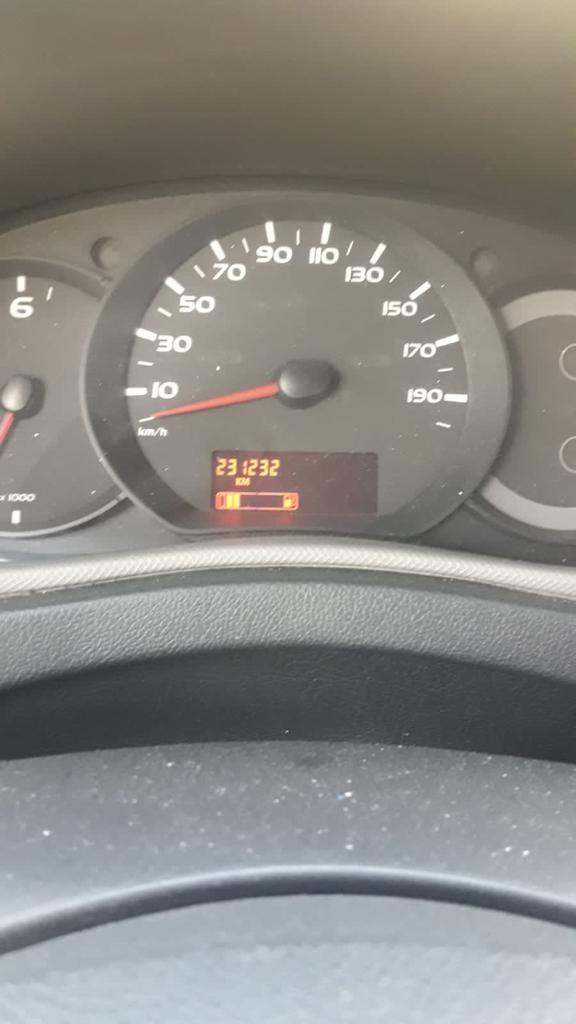1: (240, 459, 247, 475)
2: (214, 457, 226, 476), (269, 457, 280, 476), (248, 458, 257, 476)
3: (226, 457, 238, 476), (258, 458, 268, 476)
X: (241, 476, 250, 486), (234, 477, 241, 485)
odometer: (208, 446, 381, 518)
